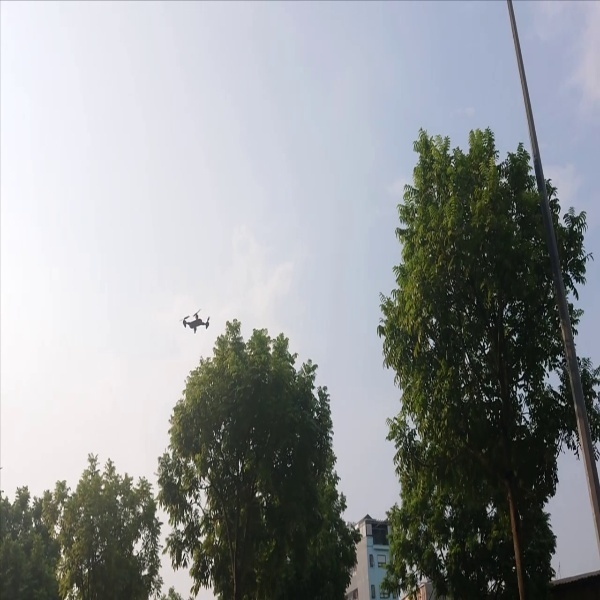drone: (180, 306, 213, 336)
